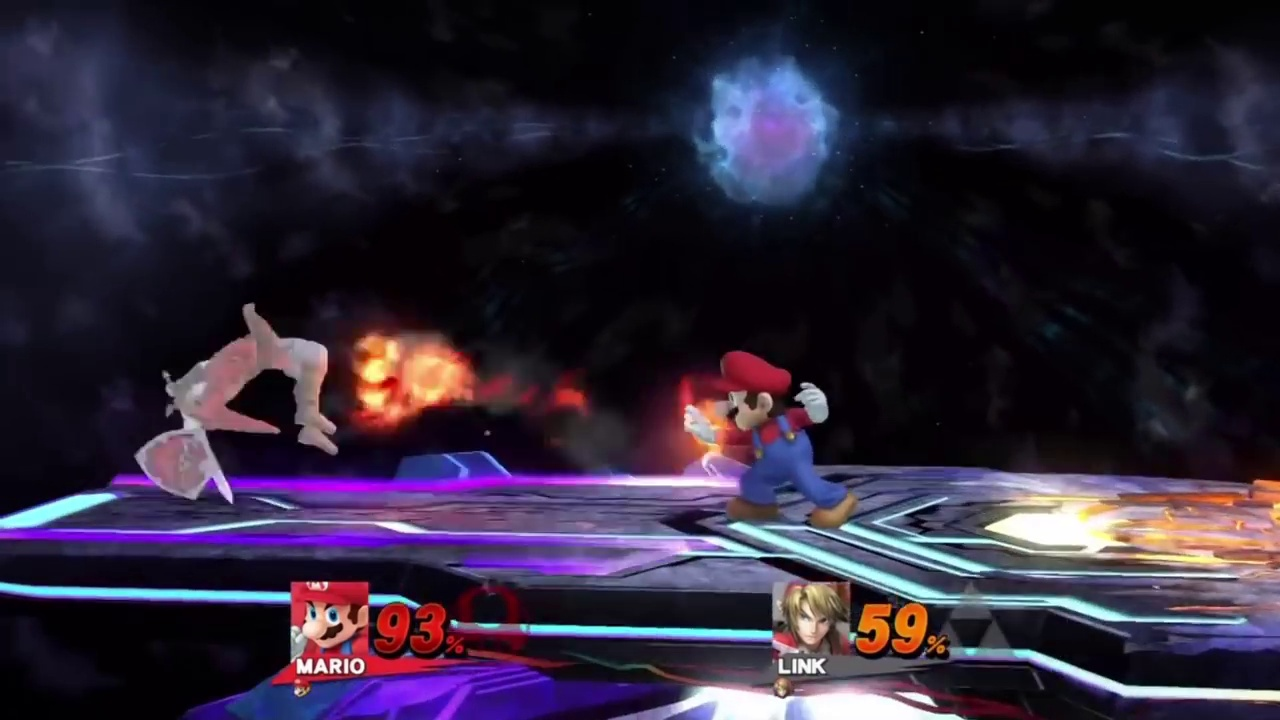Mario: (681, 351, 851, 526)
